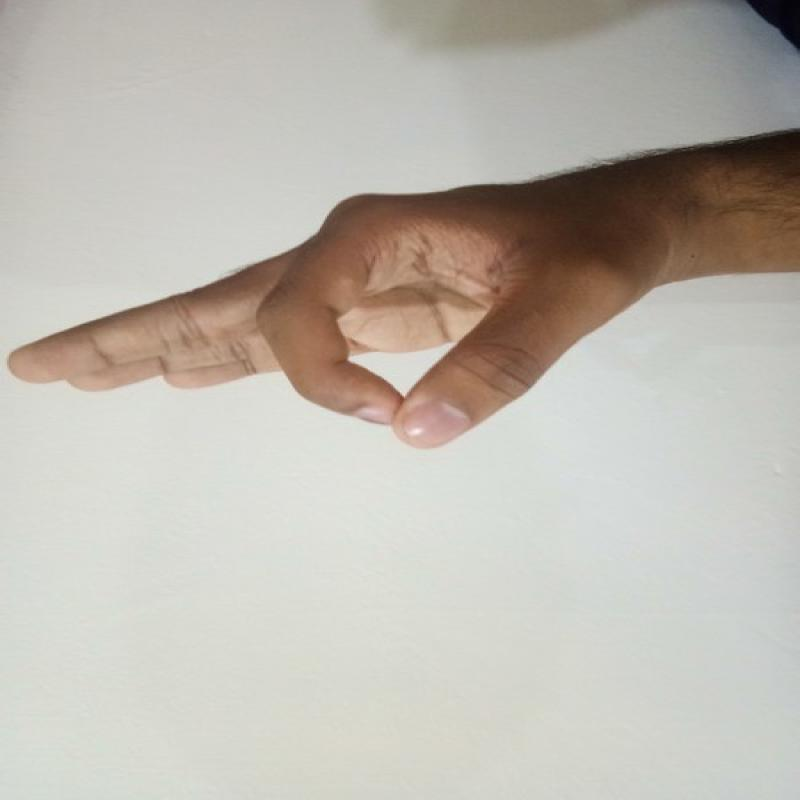Mudraakhyam: (1, 163, 663, 465)
